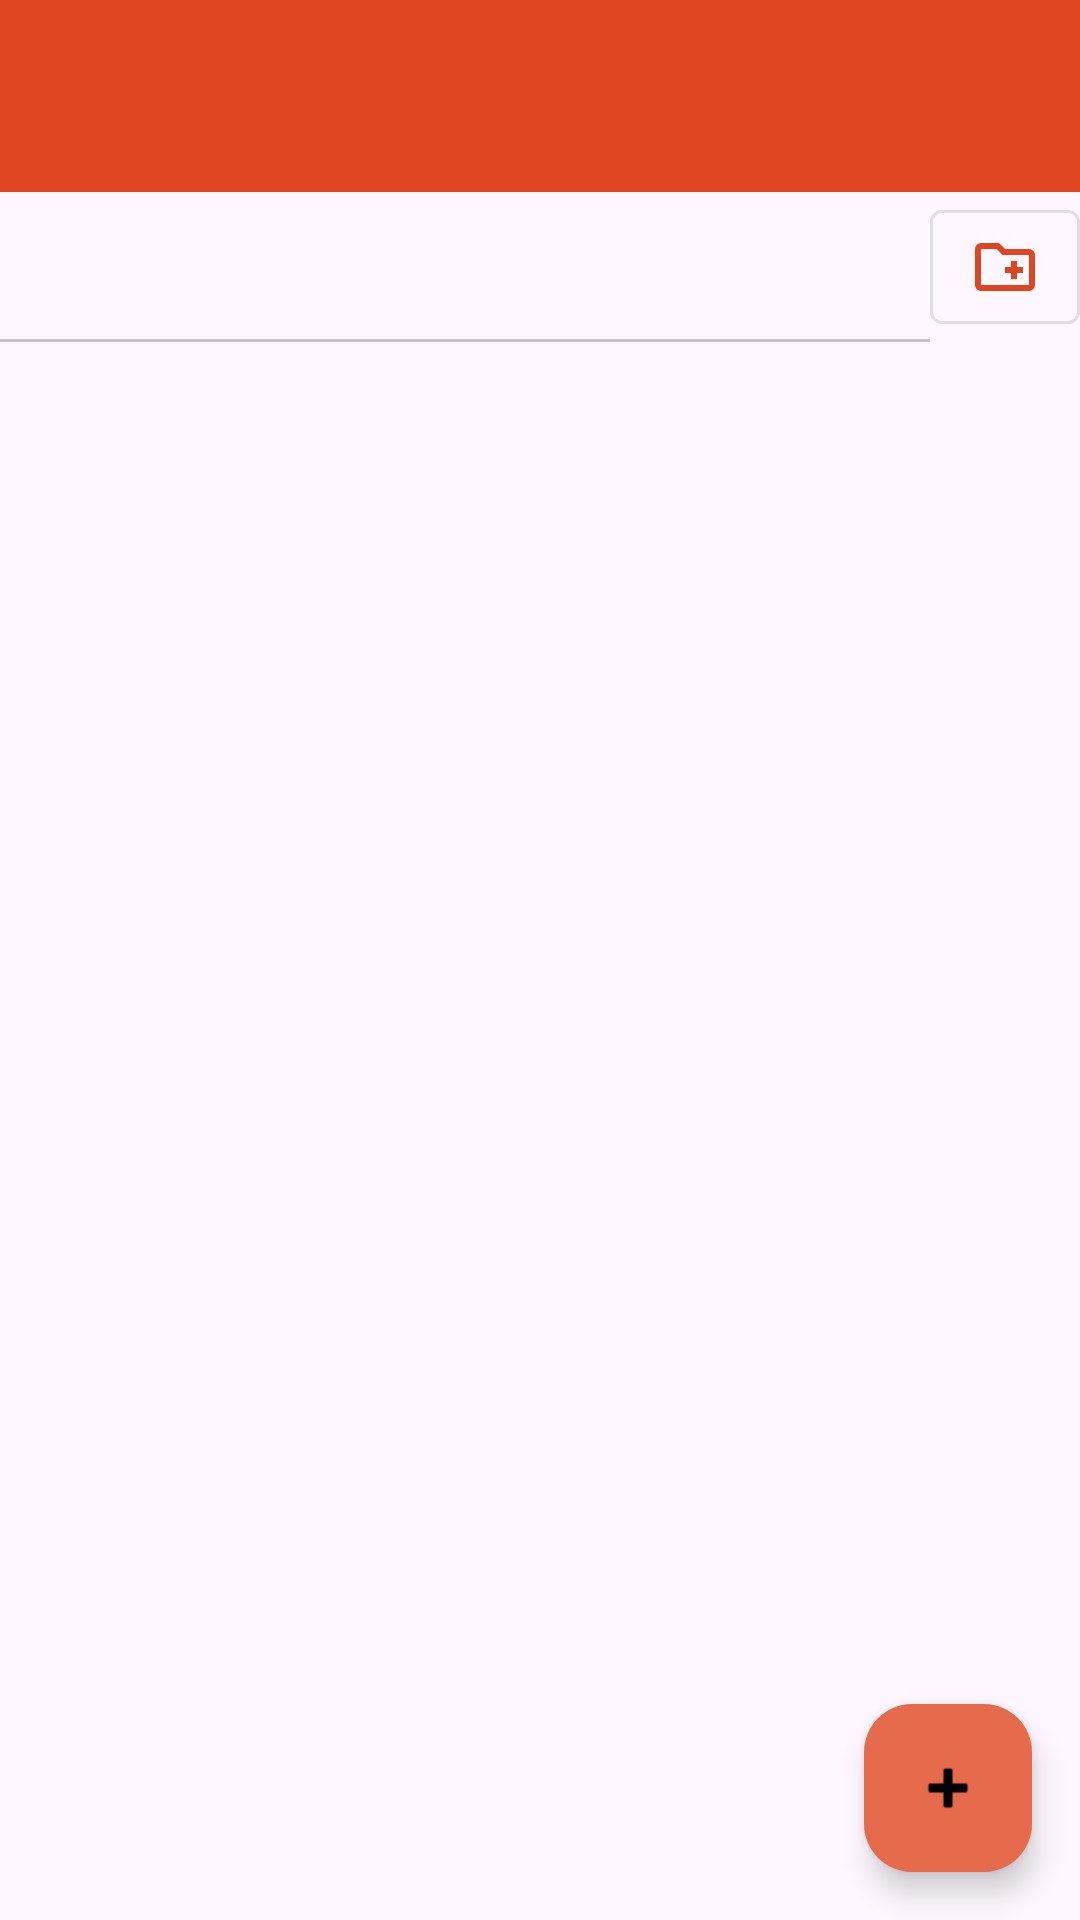

Named icons in this screenshot (1080w x 1920h) and their centers, (x=x, y=y):
Create a new note: (x=948, y=1788)
create folder: (x=1005, y=267)
